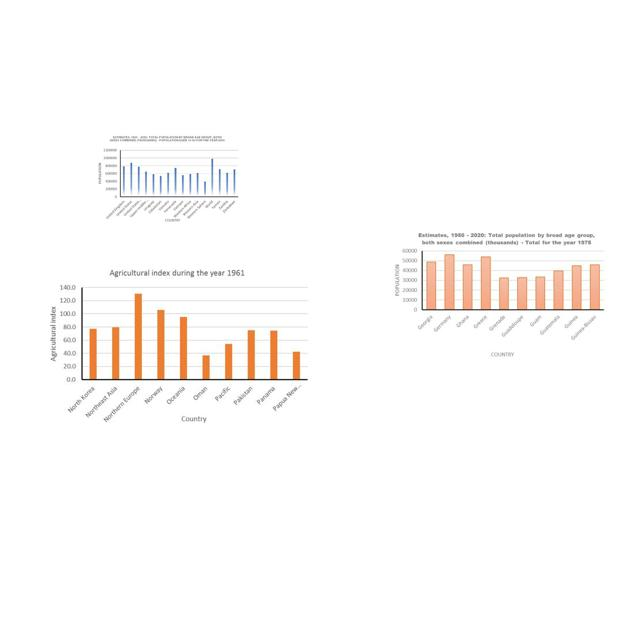Graph: (41, 265, 312, 424), (385, 229, 608, 359), (93, 134, 241, 222)
